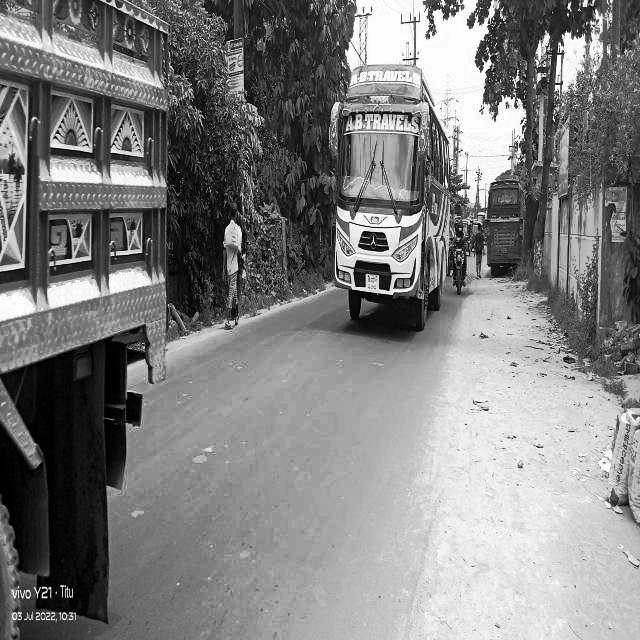Bus: (318, 56, 457, 336)
